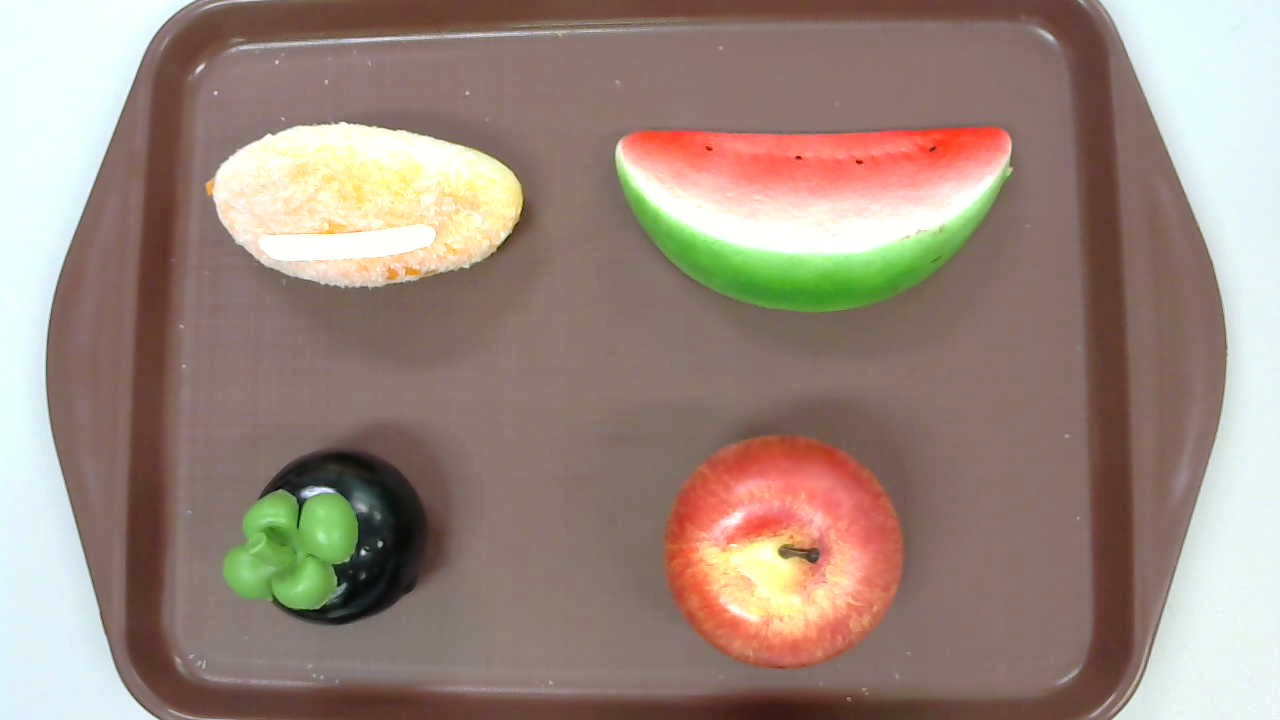coconut: (205, 121, 522, 289)
mangosteen: (222, 450, 430, 628)
red apple: (663, 431, 905, 669)
water melon: (613, 125, 1016, 315)
